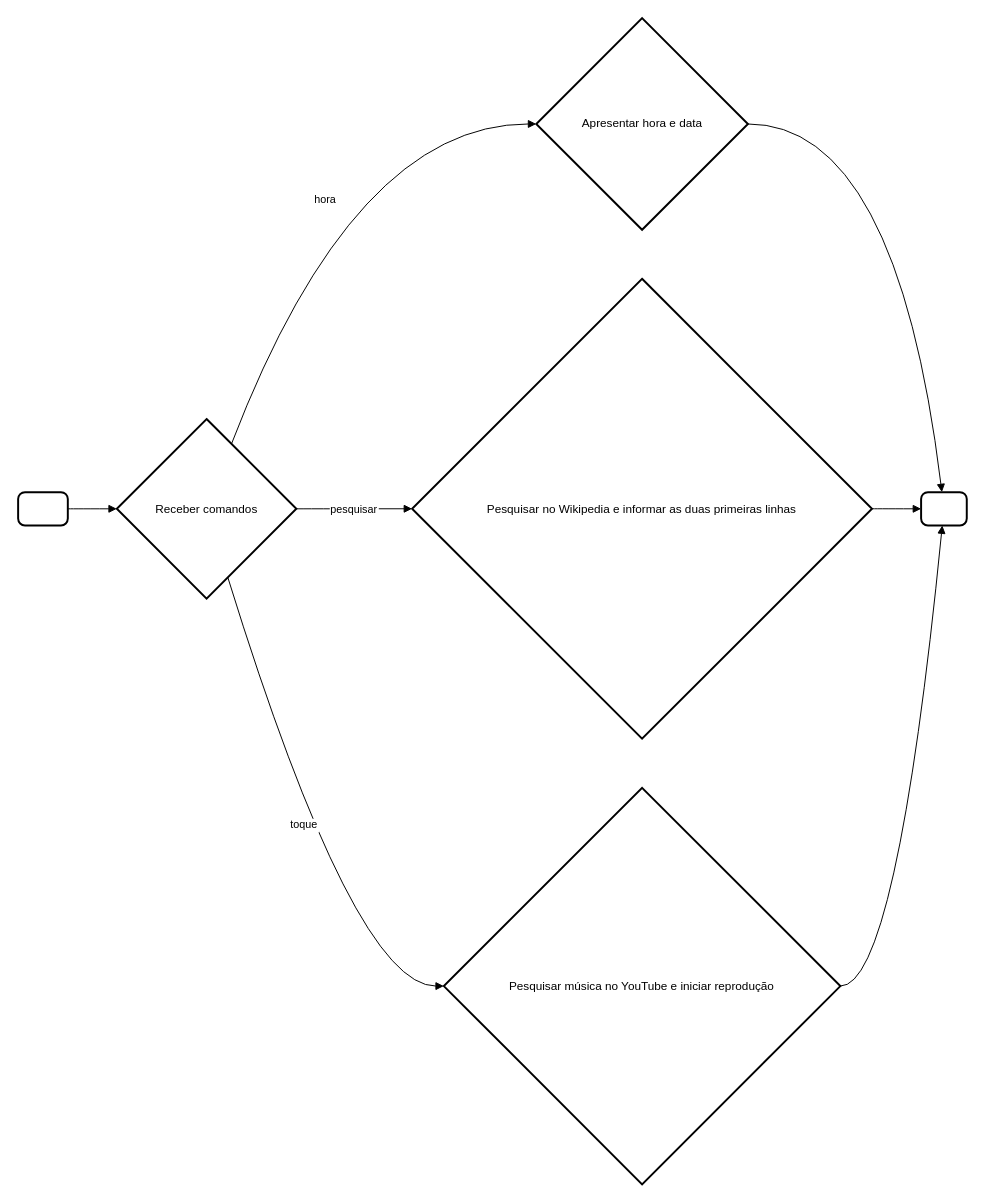
Image size: 984x1201. Some labels were removed from this diagram. Each missing label, with the centre of its shape:
Start: the point at 42,508
Stop: the point at 943,508
